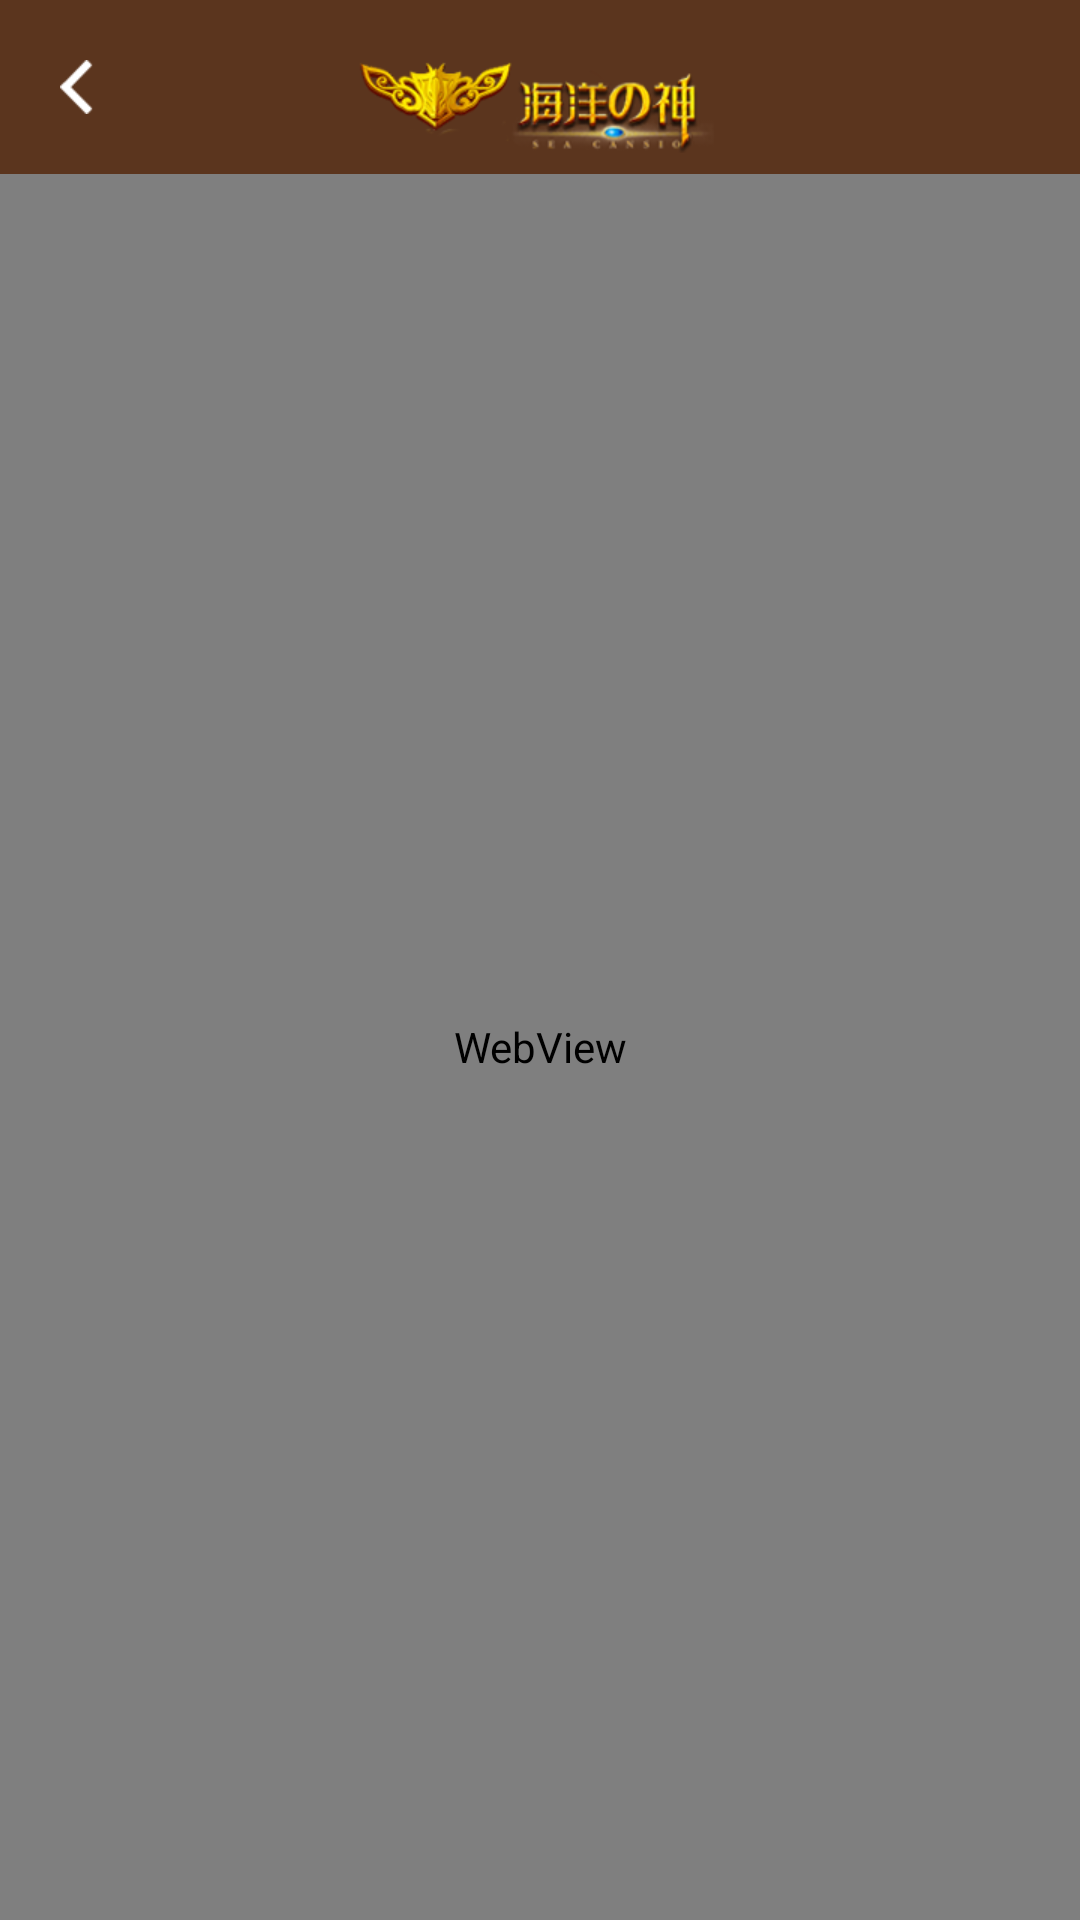

Screen size 1080 x 1920. Icon name, then its center in pixels as (x,y):
back: (76,87)
